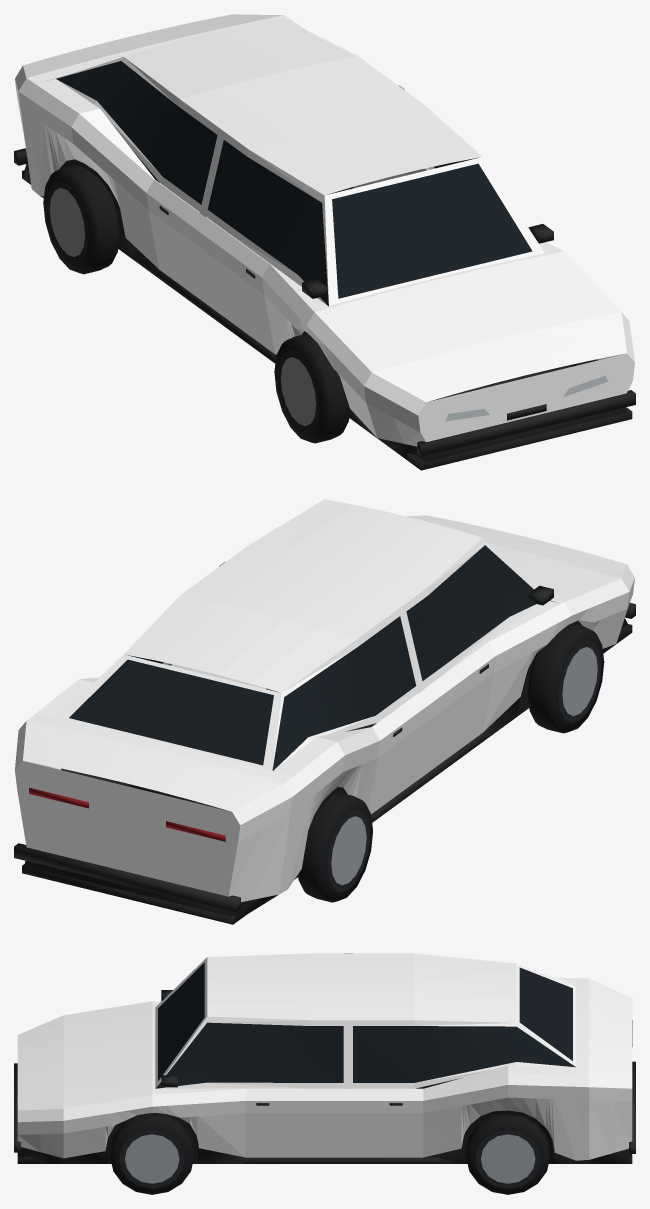
The model's file is mizuchi_visconde.glb.
3 views of the same model, one above another, from view 1: azimuth 30°, elevation 25°; view 2: azimuth 150°, elevation 25°; view 3: azimuth 270°, elevation 25° (orthographic). The views are drawn at different scales.
Visible parts, largest first — view 1: Body_Paint, Body_Details, Mount_RearLeft_Wheel_Details, Mount_FrontLeft_Wheel_Details; view 2: Body_Paint, Body_Details, Mount_FrontLeft_Wheel_Details, Mount_RearLeft_Wheel_Details; view 3: Body_Paint, Body_Details, Mount_FrontRight_Wheel_Details, Mount_RearRight_Wheel_Details.
Part boxes in pixels (x1,y1,x2,y2): Body_Paint: [15, 14, 634, 446]; Body_Details: [14, 61, 635, 470]; Mount_RearLeft_Wheel_Details: [43, 164, 119, 274]; Mount_FrontLeft_Wheel_Details: [274, 333, 350, 443]; Body_Paint: [15, 499, 634, 902]; Body_Details: [14, 545, 635, 924]; Mount_FrontLeft_Wheel_Details: [527, 623, 604, 733]; Mount_RearLeft_Wheel_Details: [298, 792, 372, 902]; Body_Paint: [17, 953, 632, 1160]; Body_Details: [14, 962, 635, 1163]; Mount_FrontRight_Wheel_Details: [110, 1113, 194, 1194]; Mount_RearRight_Wheel_Details: [466, 1114, 550, 1194].
Size of the model in its own units: 1.93 by 1.36 by 4.8.
2 materials, 1 textured.
